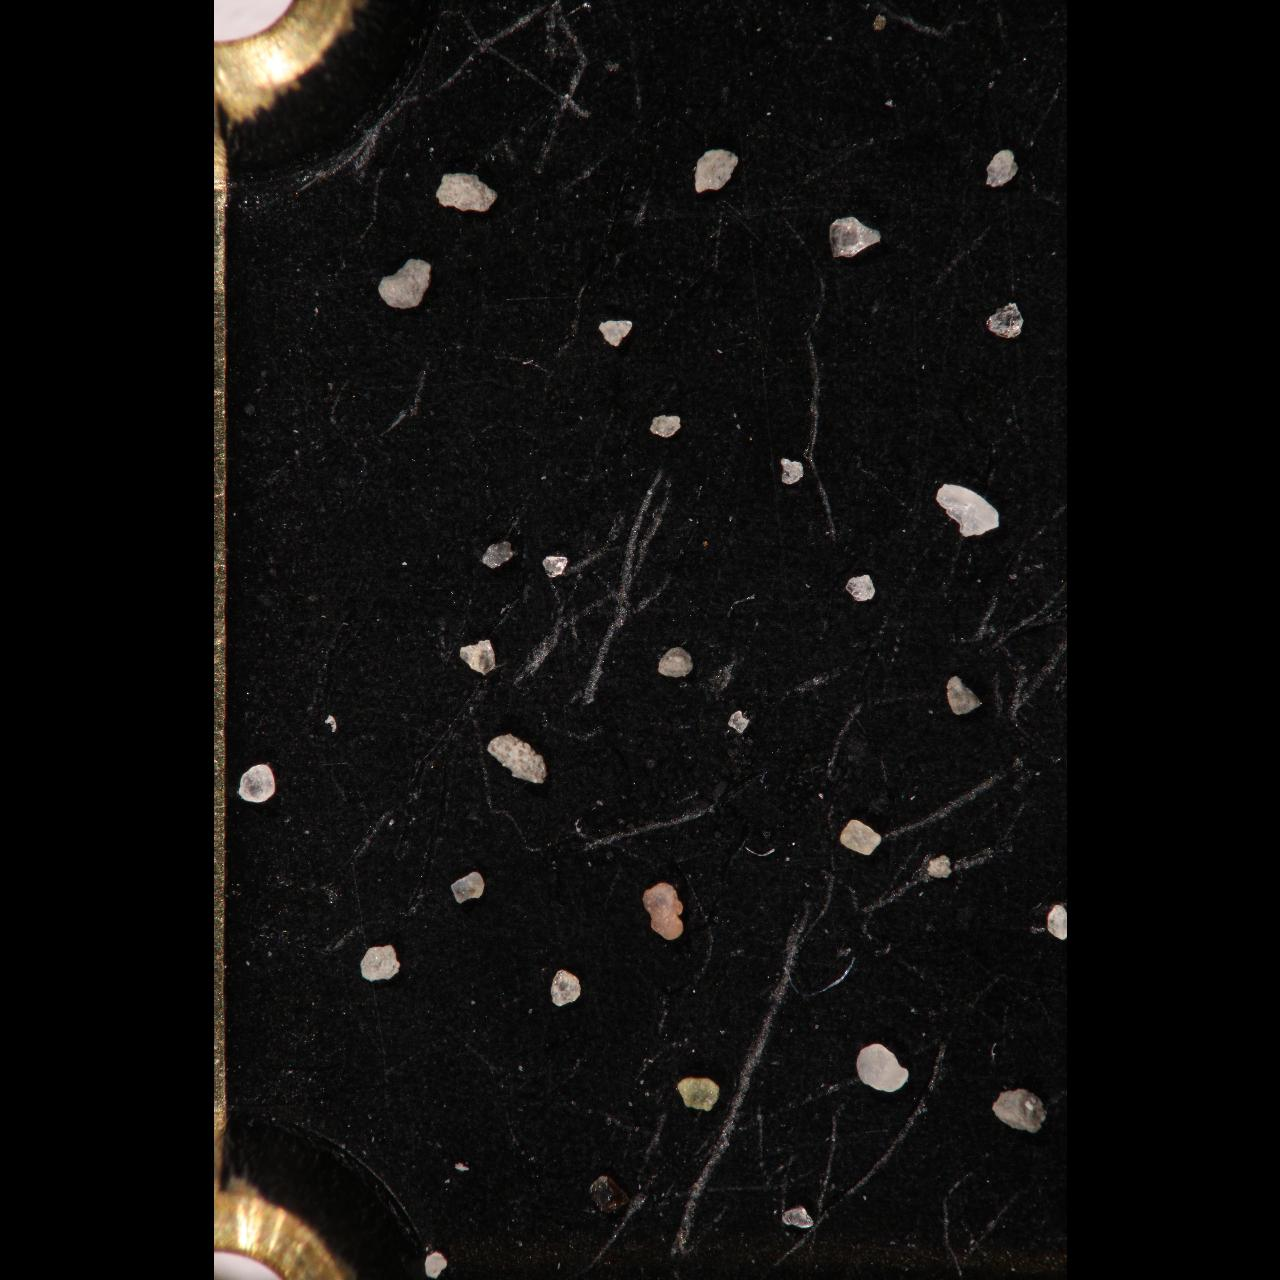Sediment: (937, 482, 1000, 537), (485, 731, 547, 787), (377, 257, 430, 309), (641, 879, 685, 942), (856, 1042, 908, 1092), (992, 1088, 1047, 1132), (436, 172, 497, 212), (828, 215, 881, 259), (694, 148, 738, 195), (358, 942, 401, 983), (236, 763, 275, 805), (945, 674, 983, 716), (840, 818, 883, 856), (986, 300, 1024, 340), (458, 636, 498, 675), (675, 1076, 719, 1111), (983, 150, 1017, 189), (449, 869, 485, 904), (549, 969, 583, 1007), (655, 646, 695, 678), (598, 318, 633, 347), (845, 572, 877, 604), (481, 539, 515, 568), (922, 851, 951, 881), (781, 1204, 813, 1230), (778, 456, 804, 486), (423, 1248, 447, 1280), (1047, 903, 1065, 941), (539, 554, 568, 579), (651, 415, 680, 437), (727, 708, 749, 734), (872, 14, 885, 32)
